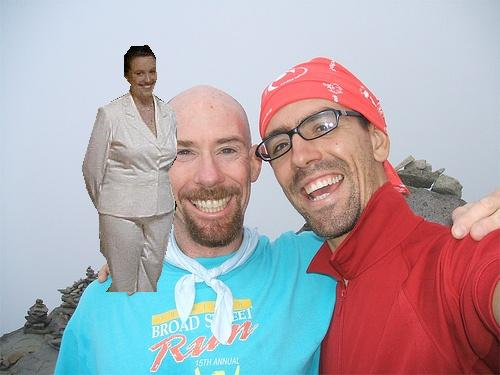tampered: (83, 46, 177, 292)
